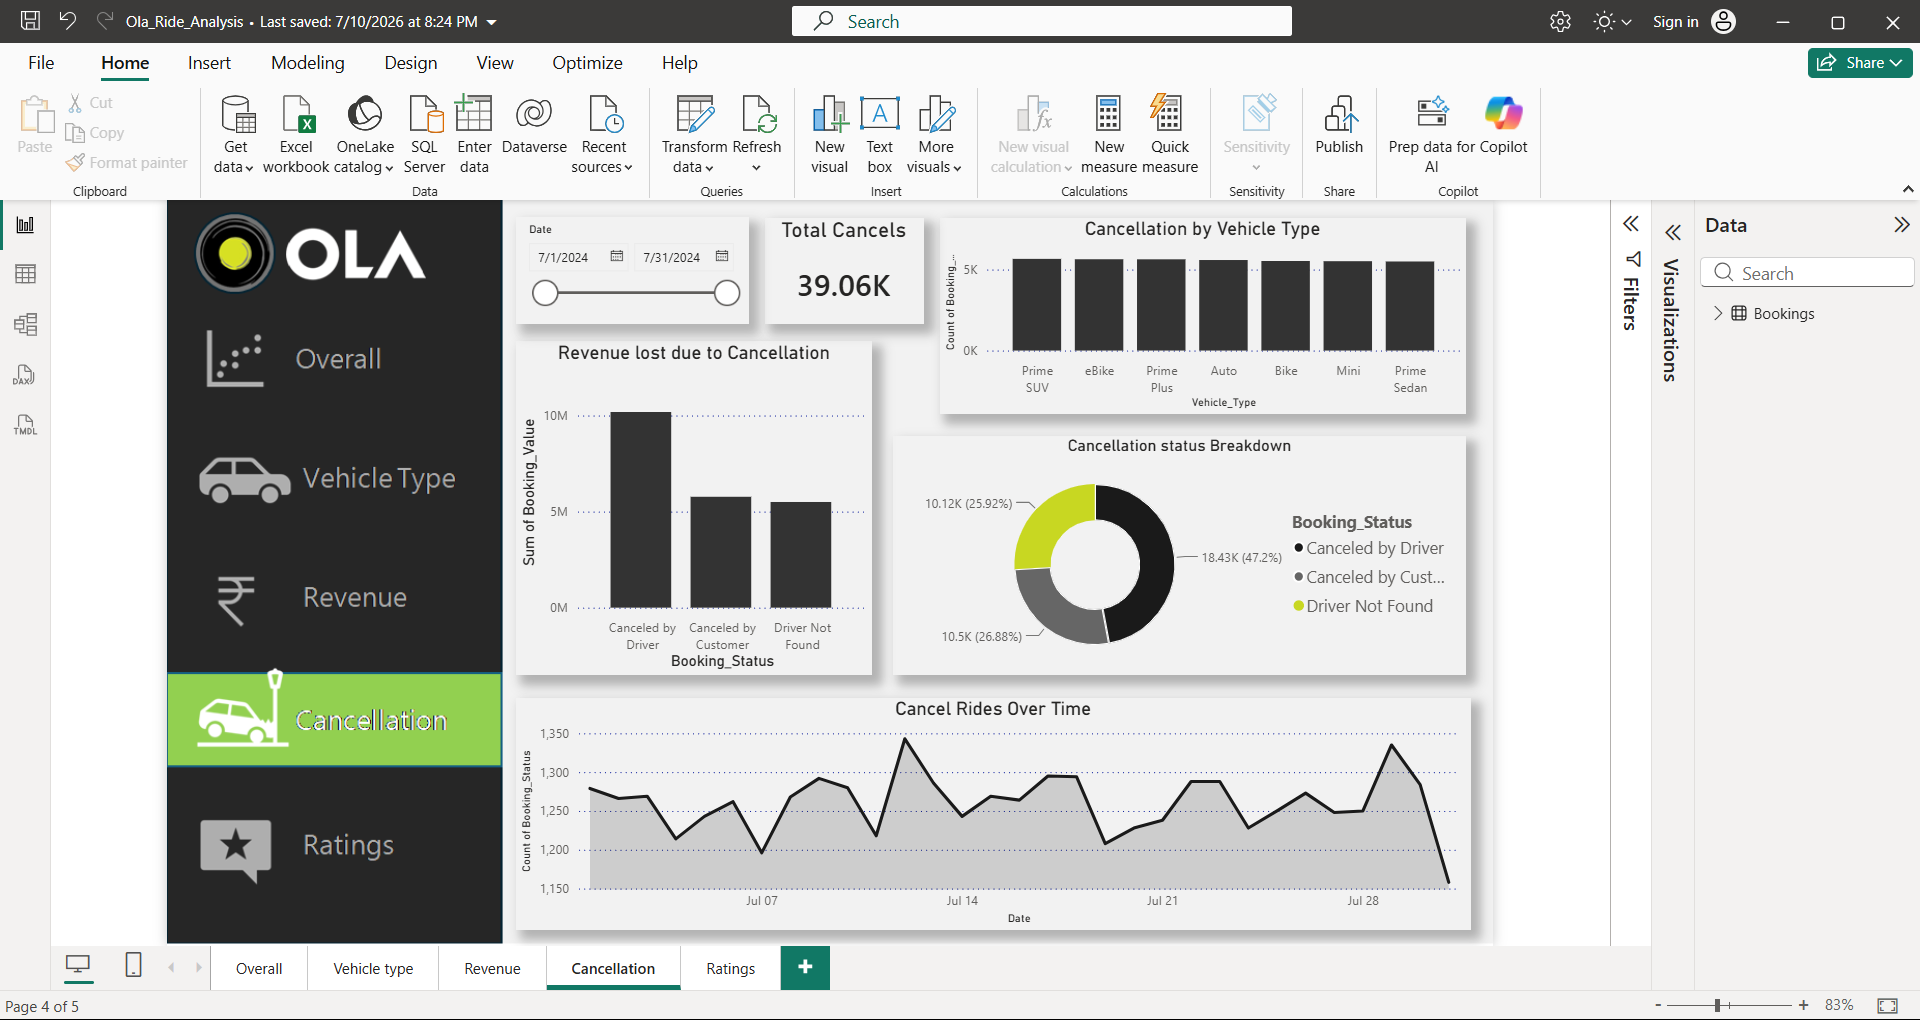

This screenshot's page, from the dashboard's own definition file:
{"tool":"powerbi","page":{"name":"Cancellation","canvas":[1280,720],"ordinal":3},"visuals":[{"type":"actionButton","box":[0,112.2,324.5,94.1],"z":0},{"type":"actionButton","box":[0,228,324.5,94.1],"z":1000},{"type":"actionButton","box":[0,335.4,324.5,94.1],"z":2000},{"type":"actionButton","box":[0,575.5,324.5,100.1],"z":3000},{"type":"donutChart","title":"Cancellation status Breakdown","fields":{"Category":["Bookings.Booking_Status"],"Y":["CountNonNull(Bookings.Booking_Status)"]},"box":[700.9,228,552.5,230.4],"z":4000},{"type":"slicer","fields":{"Values":["Bookings.Date"]},"box":[336.2,16.5,225,102.9],"z":5000},{"type":"lineChart","title":"Cancel Rides Over Time","fields":{"Category":["Bookings.Date"],"Y":["CountNonNull(Bookings.Booking_Status)"]},"box":[336.6,480.2,921.7,224.4],"z":6000},{"type":"columnChart","title":"Cancellation by Vehicle Type","fields":{"Category":["Bookings.Vehicle_Type"],"Y":["CountNonNull(Bookings.Booking_Status)"]},"box":[745.6,16.9,507.9,189.4],"z":7000},{"type":"columnChart","title":"Revenue lost due to Cancellation","fields":{"Y":["Sum(Bookings.Booking_Value)"],"Category":["Bookings.Booking_Status"]},"box":[336.6,136.3,343.8,322.1],"z":8000},{"type":"cardVisual","title":"Total Cancels","fields":{"Data":["CountNonNull(Bookings.Booking_Status)"]},"box":[576.7,16.9,153.2,102.5],"z":9000}]}

Visuals, with their boxes on the page's 1280x720 design canvas (x1, y1, x2, y2). These are canvas units, not pixel positions in the 1920x1020 screenshot, which may show the page scaled, cropped or inside an application window:
actionButton: box(0, 112, 324, 206)
actionButton: box(0, 228, 324, 322)
actionButton: box(0, 335, 324, 430)
actionButton: box(0, 576, 324, 676)
"Cancellation status Breakdown" donutChart: box(701, 228, 1253, 458)
slicer - Bookings.Date: box(336, 16, 561, 119)
"Cancel Rides Over Time" lineChart: box(337, 480, 1258, 705)
"Cancellation by Vehicle Type" columnChart: box(746, 17, 1254, 206)
"Revenue lost due to Cancellation" columnChart: box(337, 136, 680, 458)
"Total Cancels" cardVisual: box(577, 17, 730, 119)
